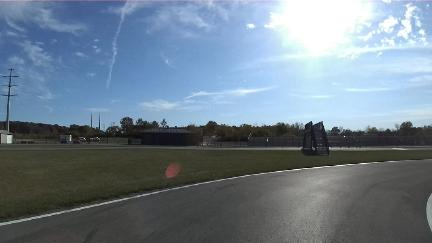Grass: (0, 150, 431, 220)
Lane: (0, 160, 431, 242), (0, 144, 300, 150)
